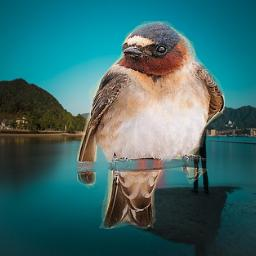Swallow: (77, 21, 225, 229)
